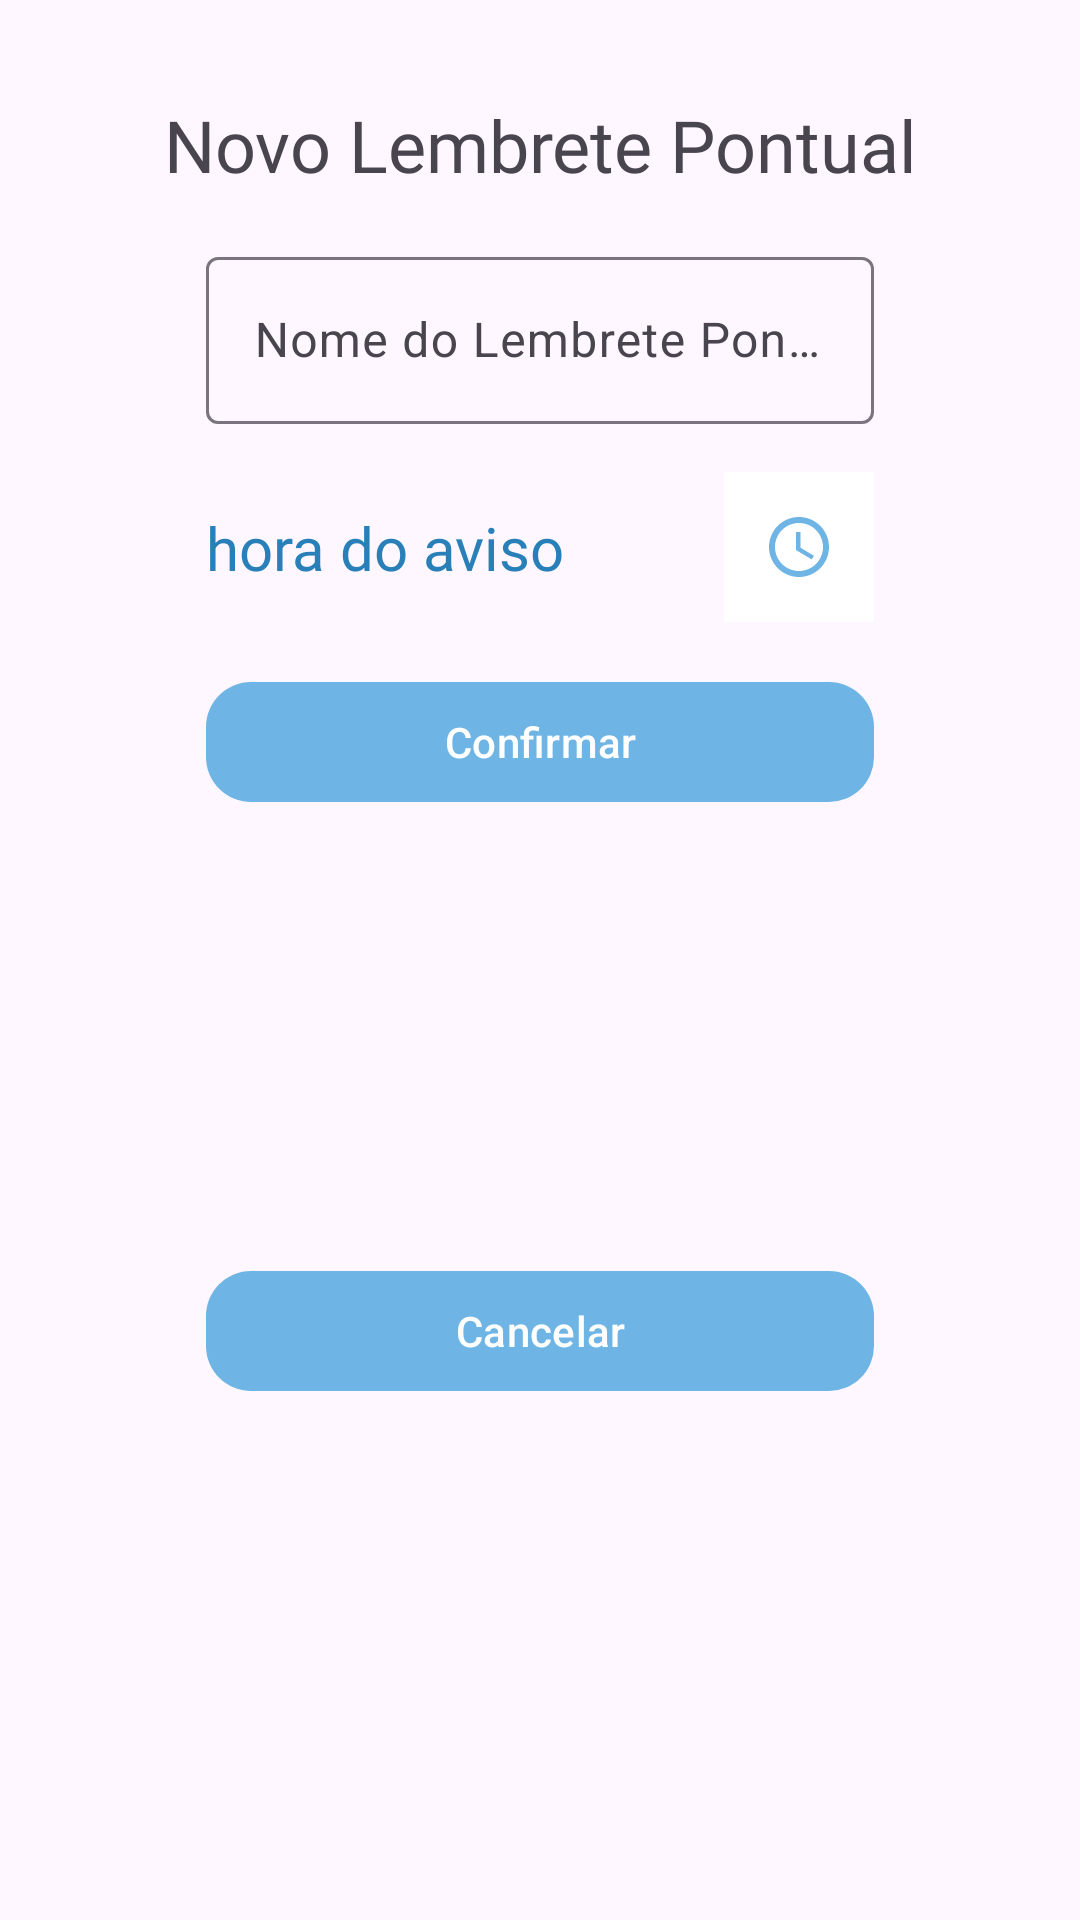

Locate icon controls on the screen. Image size 1080*1920, boxes as (left=x1, top=y1, right=x2, bottom=y2).
access time: (left=769, top=517, right=829, bottom=577)
